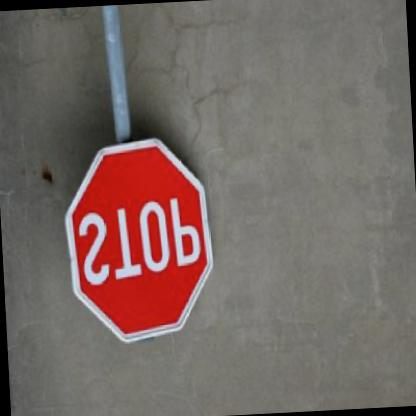stop: (56, 137, 216, 349)
